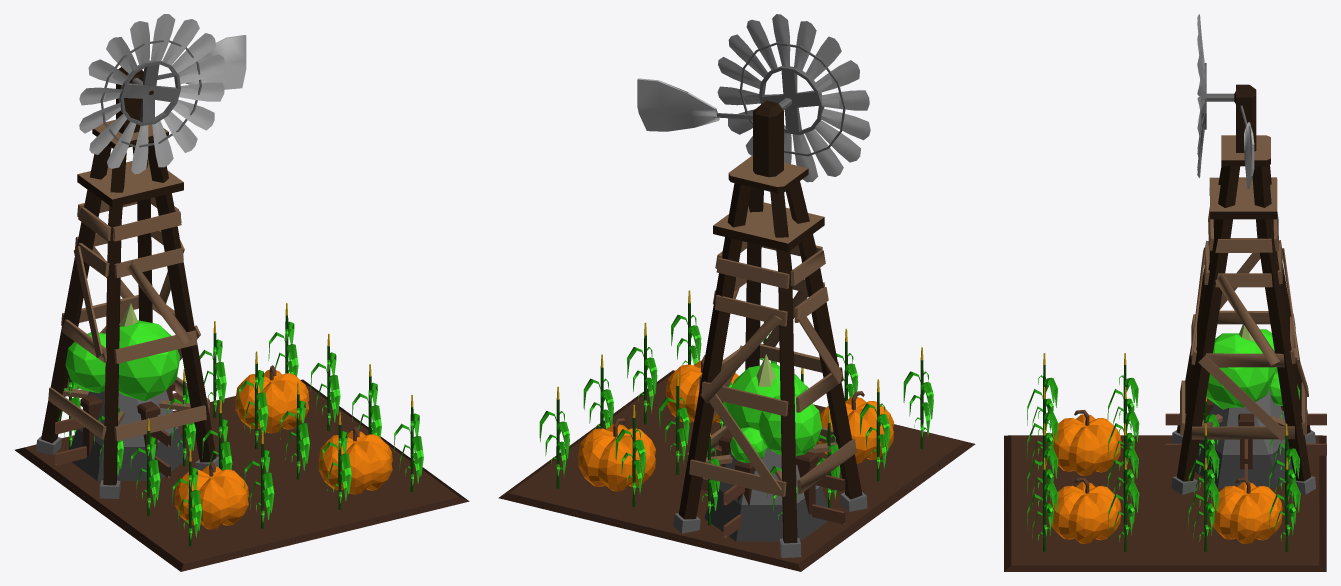
Rendered from farm-assets.glb.
3 views of the same model, side by side, from view 1: azimuth 30°, elevation 25°; view 2: azimuth 150°, elevation 25°; view 3: azimuth 270°, elevation 25° (orthographic). The views are drawn at different scales.
Visible parts, largest first — view 1: corn, windmill, windmill2, pumpkin, tree1, stone1, fence2; view 2: windmill, corn, windmill2, pumpkin, stone1, tree1, fence1, fence2; view 3: corn, windmill, pumpkin, stone1, tree1, fence2, windmill2, fence1.
Part boxes in pixels (<box>): corn: <box>15,303,469,571</box>; windmill: <box>36,35,246,498</box>; windmill2: <box>79,14,225,174</box>; pumpkin: <box>174,365,392,529</box>; tree1: <box>65,320,180,401</box>; stone1: <box>70,390,188,480</box>; fence2: <box>55,383,188,477</box>; windmill: <box>637,78,867,557</box>; corn: <box>498,290,975,571</box>; windmill2: <box>717,14,870,182</box>; pumpkin: <box>578,355,894,491</box>; stone1: <box>704,447,828,541</box>; tree1: <box>726,363,821,462</box>; fence1: <box>701,432,845,524</box>; fence2: <box>703,433,818,537</box>; corn: <box>1004,353,1326,571</box>; windmill: <box>1171,84,1315,494</box>; pumpkin: <box>1050,410,1282,543</box>; stone1: <box>1195,388,1292,487</box>; tree1: <box>1206,329,1282,409</box>; fence2: <box>1165,398,1326,478</box>; windmill2: <box>1197,14,1206,177</box>; fence1: <box>1238,413,1254,481</box>.
Size of the model in its own units: 2 by 3.15 by 2.
Materials: 1 (1 with a texture image).
